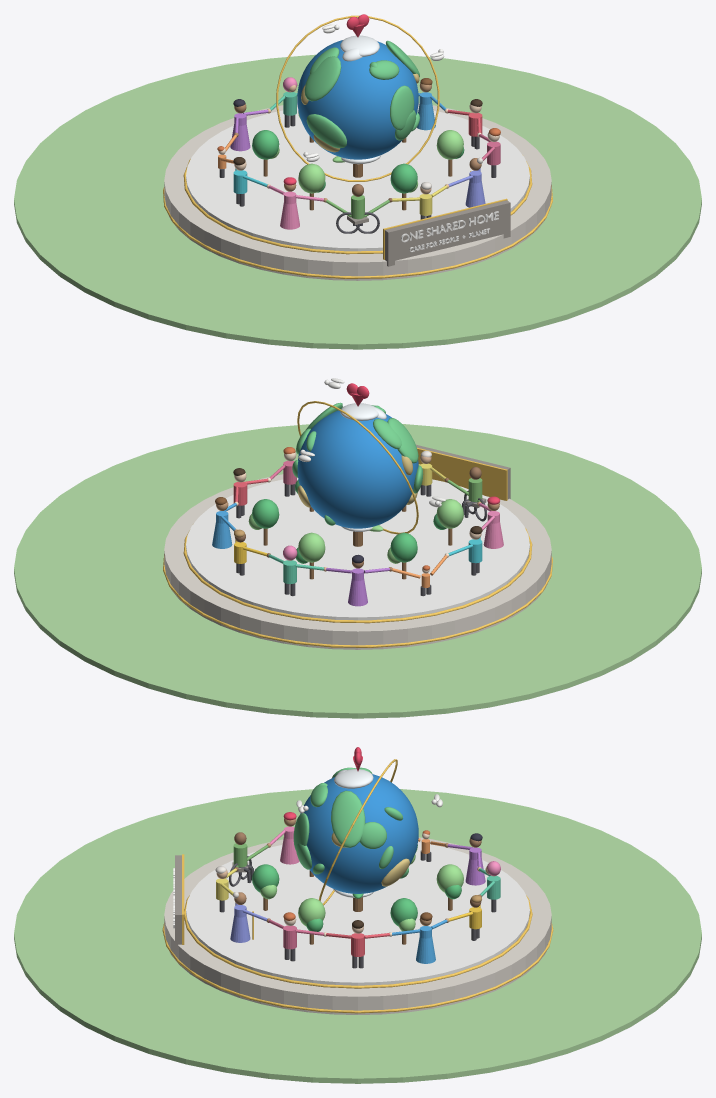
Rendered from one_shared_home.glb.
3 views of the same model, one above another, from view 1: azimuth 30°, elevation 25°; view 2: azimuth 150°, elevation 25°; view 3: azimuth 270°, elevation 25° (orthographic).
Parts seen in each view (by area): view 1: GroundGrass, PlinthTop, PlinthBase, Earth, Plaque, PlinthGoldRing2, OrbitRing, NA, PlinthGoldRing, SA, Africa, TreeTop3 (+5 smaller); view 2: GroundGrass, PlinthTop, PlinthBase, Earth, PlaqueGold, PlinthGoldRing, PlinthGoldRing2, TreeTop2, TreeTop1, OrbitRing, TreeTop0, TreeTop3 (+1 smaller); view 3: GroundGrass, PlinthTop, PlinthBase, Earth, PlinthGoldRing, Asia, PlinthGoldRing2, Plaque, NorthIce, Asia2, TreeTop5, TreeTop0 (+3 smaller).
Boxes of the visible parts, left/top/right/bottom form: GroundGrass: left=14, top=54, right=701, bottom=349; PlinthTop: left=186, top=107, right=529, bottom=251; PlinthBase: left=164, top=103, right=551, bottom=280; Earth: left=297, top=40, right=418, bottom=159; Plaque: left=385, top=200, right=510, bottom=266; PlinthGoldRing2: left=163, top=185, right=552, bottom=278; OrbitRing: left=276, top=15, right=439, bottom=181; NA: left=304, top=56, right=341, bottom=101; PlinthGoldRing: left=183, top=159, right=532, bottom=254; SA: left=306, top=114, right=346, bottom=148; Africa: left=390, top=85, right=414, bottom=130; TreeTop3: left=298, top=163, right=325, bottom=193; GroundGrass: left=14, top=424, right=701, bottom=718; PlinthTop: left=186, top=477, right=529, bottom=620; PlinthBase: left=164, top=474, right=551, bottom=649; Earth: left=297, top=410, right=418, bottom=528; PlaqueGold: left=417, top=447, right=507, bottom=500; PlinthGoldRing: left=183, top=528, right=532, bottom=623; PlinthGoldRing2: left=163, top=554, right=552, bottom=647; TreeTop2: left=390, top=532, right=417, bottom=562; TreeTop1: left=298, top=532, right=325, bottom=562; OrbitRing: left=297, top=401, right=418, bottom=534; TreeTop0: left=252, top=499, right=279, bottom=528; TreeTop3: left=436, top=499, right=463, bottom=528; GroundGrass: left=14, top=789, right=701, bottom=1083; PlinthTop: left=186, top=842, right=529, bottom=985; PlinthBase: left=164, top=837, right=551, bottom=1014; Earth: left=300, top=774, right=418, bottom=893; PlinthGoldRing: left=184, top=895, right=532, bottom=988; Asia: left=331, top=790, right=365, bottom=847; PlinthGoldRing2: left=162, top=923, right=553, bottom=1013; Plaque: left=175, top=855, right=181, bottom=948; NorthIce: left=334, top=769, right=373, bottom=788; Asia2: left=360, top=822, right=386, bottom=848; TreeTop5: left=298, top=898, right=325, bottom=926; TreeTop0: left=390, top=898, right=417, bottom=926.
Bounding box in the file's own units: 19 × 5.74 × 19.
